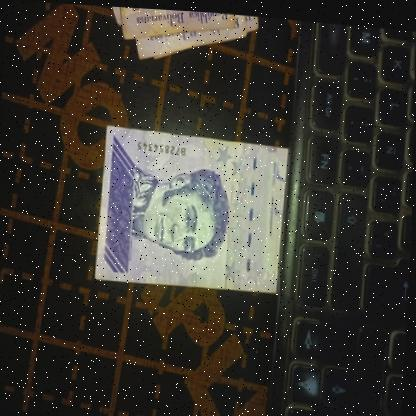ten-front-vef: (130, 108, 295, 304)
